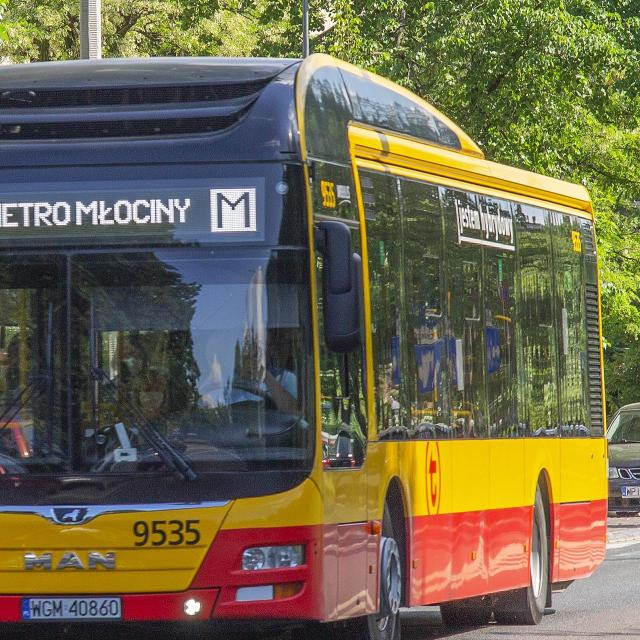Bus: (0, 54, 608, 640)
